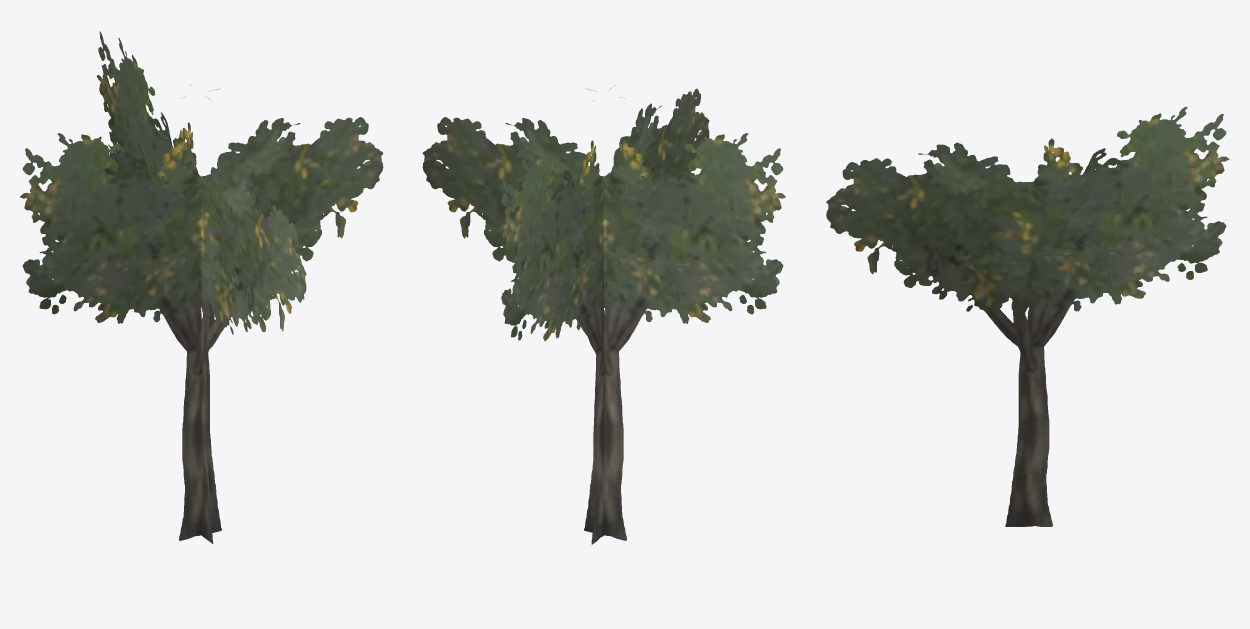
Rendered from arvore_ipe_impostor.glb.
The picture shows the model from 3 angles, left to right: view 1: azimuth 30°, elevation 25°; view 2: azimuth 150°, elevation 25°; view 3: azimuth 270°, elevation 25°; orthographic projection. The views are drawn at different scales.
Parts seen in each view (by area): view 1: arvore_ipe_impostor; view 2: arvore_ipe_impostor; view 3: arvore_ipe_impostor.
Boxes of the visible parts, box(x1,y1,x2,y2) form: arvore_ipe_impostor: box(20, 31, 383, 543); arvore_ipe_impostor: box(422, 85, 785, 544); arvore_ipe_impostor: box(826, 106, 1229, 526).
Bounding box in the file's own units: 7.81 × 8.81 × 7.81.
Materials: 1 (1 with a texture image).
